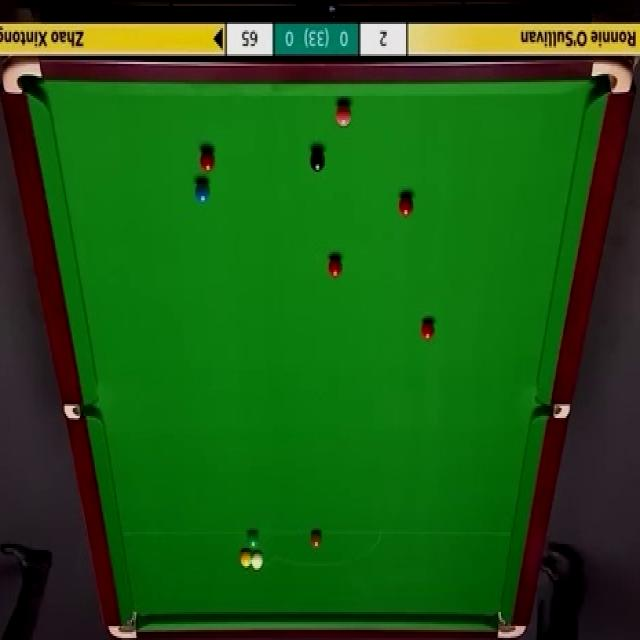pocket: (1, 58, 46, 97), (590, 58, 633, 96), (495, 606, 528, 640), (110, 608, 141, 640), (64, 400, 101, 422), (535, 405, 573, 420)
